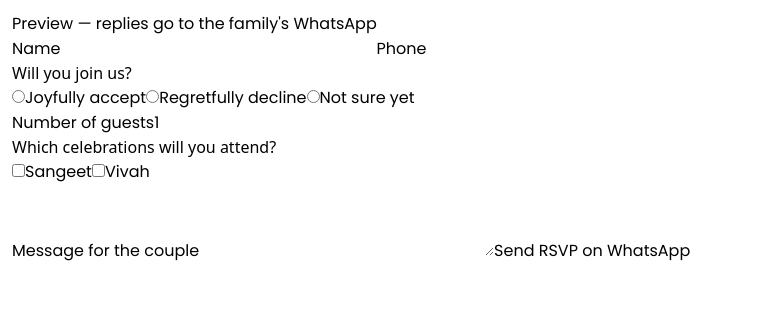
<RsvpForm> › says so instead of doing nothing when the reply can't be addressed
Type "Sharma Parivar" into the field labelled "Name". click: (218, 49)
box: [60, 37, 376, 61]
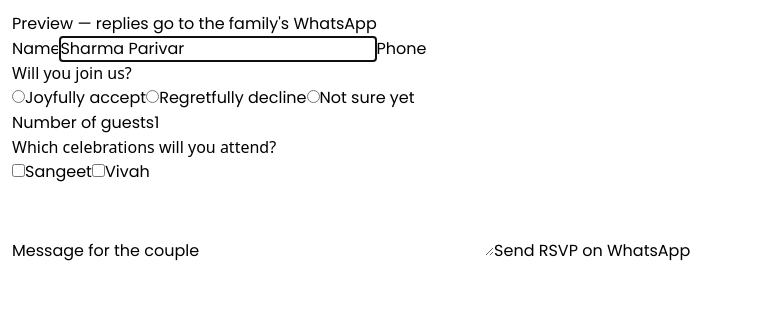
Type "9876543210" into the field labelled "Phone". click: (584, 49)
box: [426, 37, 742, 61]
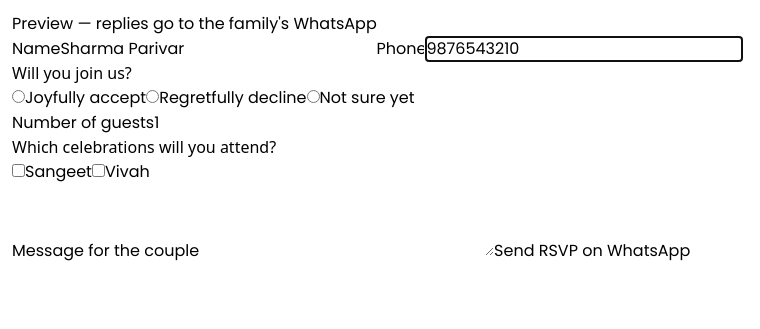
Click the radio button labelled "Joyfully accept". click: (18, 96)
box: [12, 90, 25, 103]
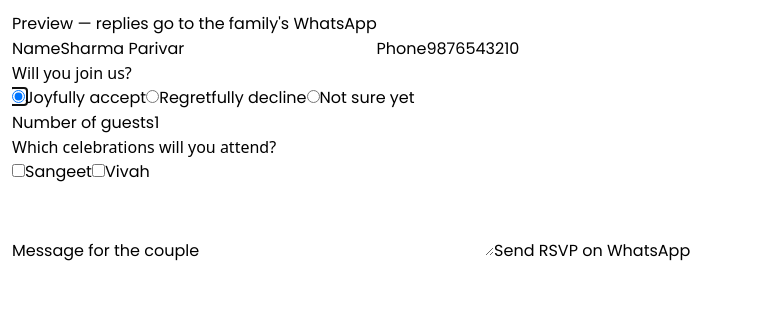
Replace the text in the number field labelled "Number of guests" with "3". click: (194, 123)
box: [154, 111, 233, 135]
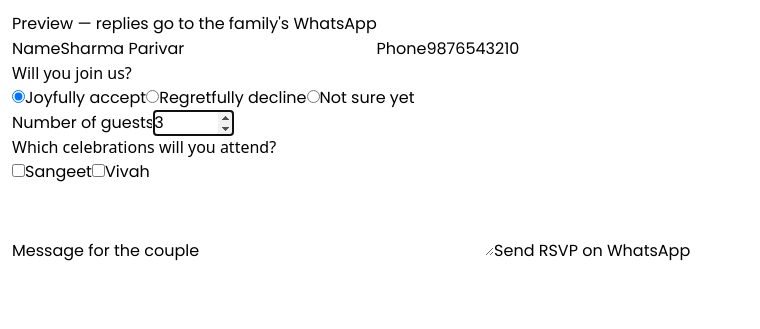
Click the checkbox labelled "Sangeet". click: (18, 170)
box: [12, 164, 25, 177]
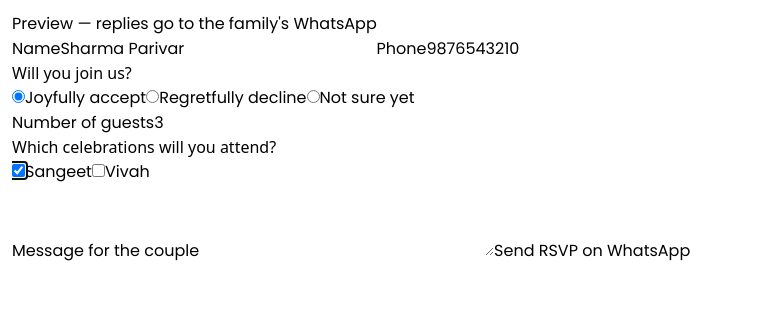
Click the button "Send RSVP on WhatsApp". click: (592, 251)
box: [494, 239, 690, 263]
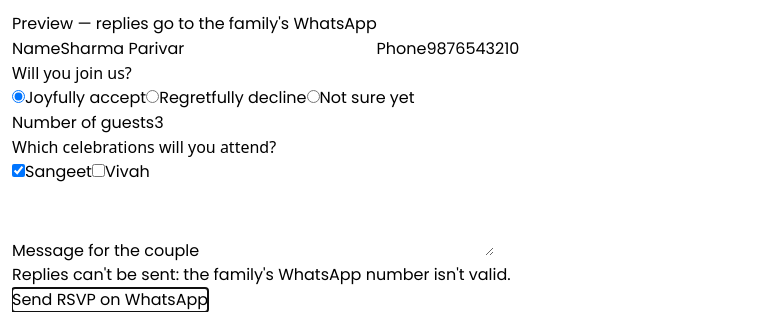
Expected: the message reads "Replies can't be sent: the family's WhatsApp number isn't valid.", [12, 263, 511, 286]
